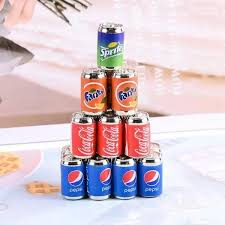can: (60, 23, 162, 199)
